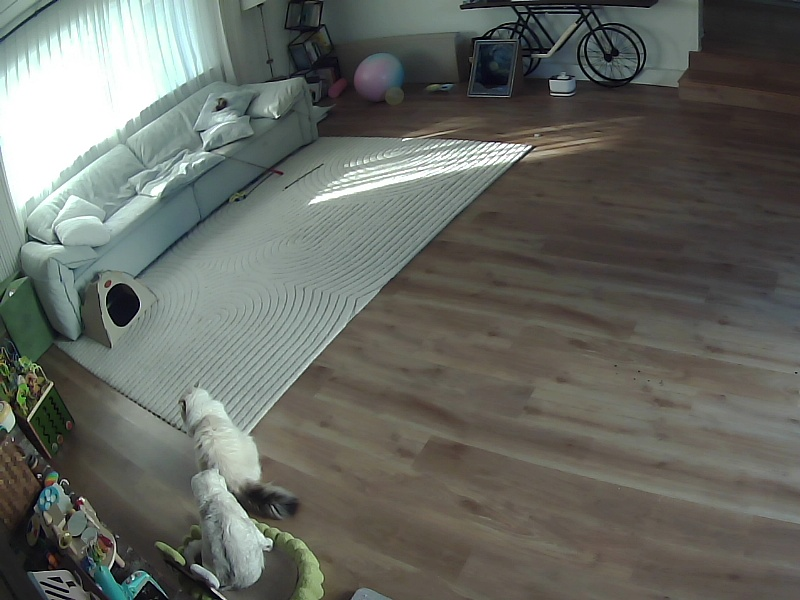Qb-2: (186, 469, 271, 588)
Qbo-2: (180, 387, 298, 518)
